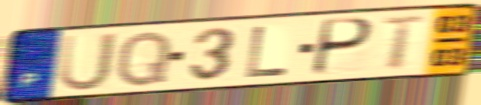3: (185, 26, 238, 83)
L: (243, 24, 291, 80)
P: (308, 16, 375, 78)
Q: (113, 29, 175, 89)
T: (379, 14, 429, 71)
U: (57, 30, 119, 93)
